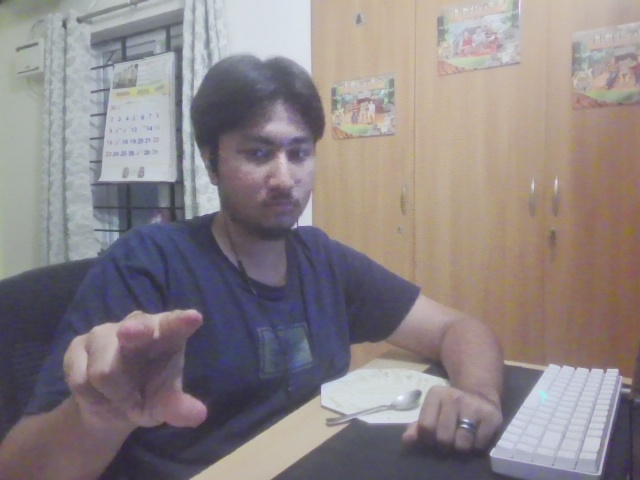no: (58, 304, 218, 439)
